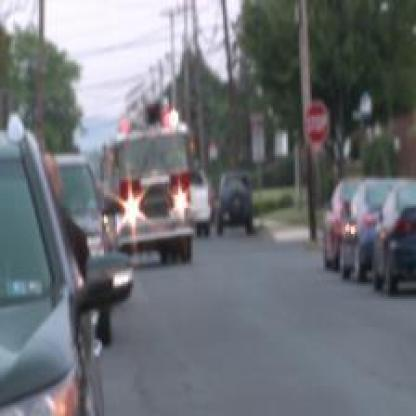other: (113, 177, 188, 216), (99, 112, 196, 130)
